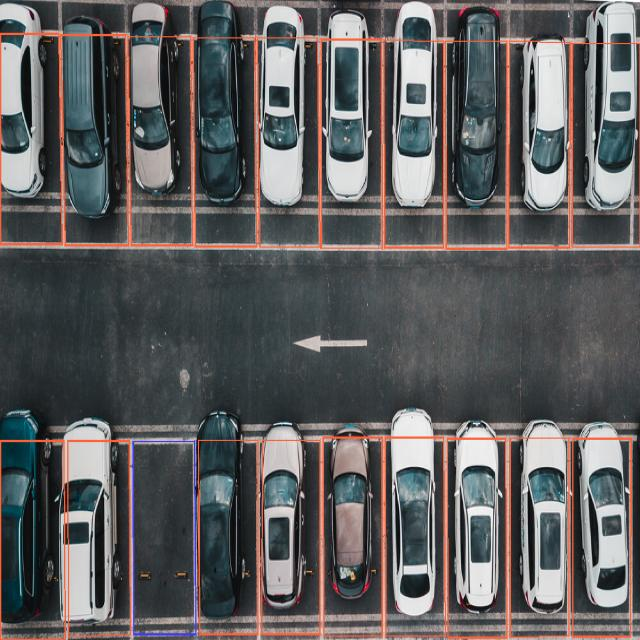space-empty: (130, 438, 197, 628)
space-occupied: (576, 6, 640, 212), (0, 418, 61, 634), (59, 429, 126, 624), (60, 32, 126, 212), (124, 34, 191, 205), (512, 34, 576, 208), (510, 432, 572, 611), (194, 437, 253, 623), (444, 37, 509, 205), (191, 36, 256, 202), (320, 434, 379, 615), (255, 36, 317, 206), (319, 33, 381, 202), (385, 435, 444, 611), (255, 436, 312, 618), (0, 33, 60, 202), (385, 37, 445, 205), (574, 432, 630, 611), (448, 434, 506, 605)
